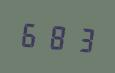eight: (44, 18, 68, 53)
six: (18, 16, 42, 51)
three: (69, 21, 93, 56)
